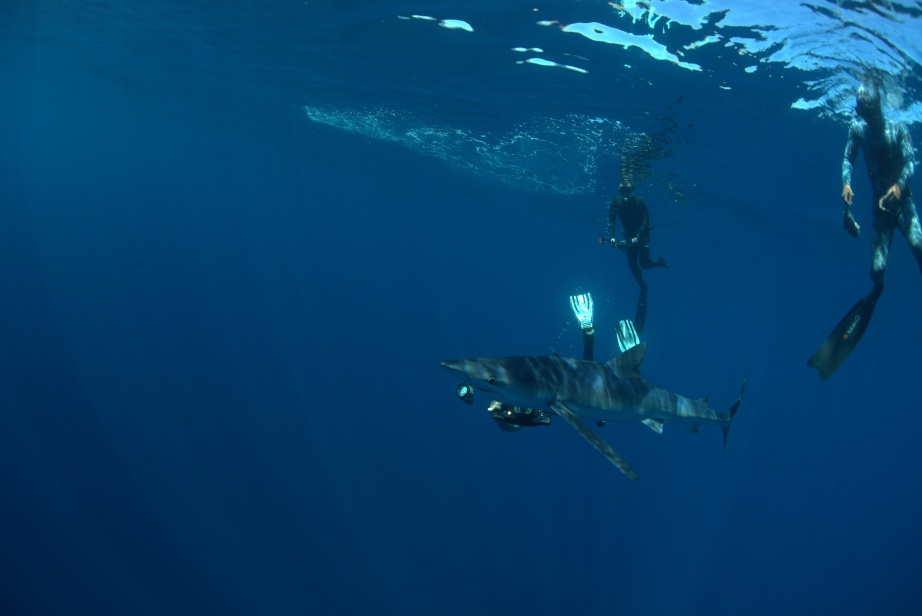Azul: (422, 298, 763, 506)
